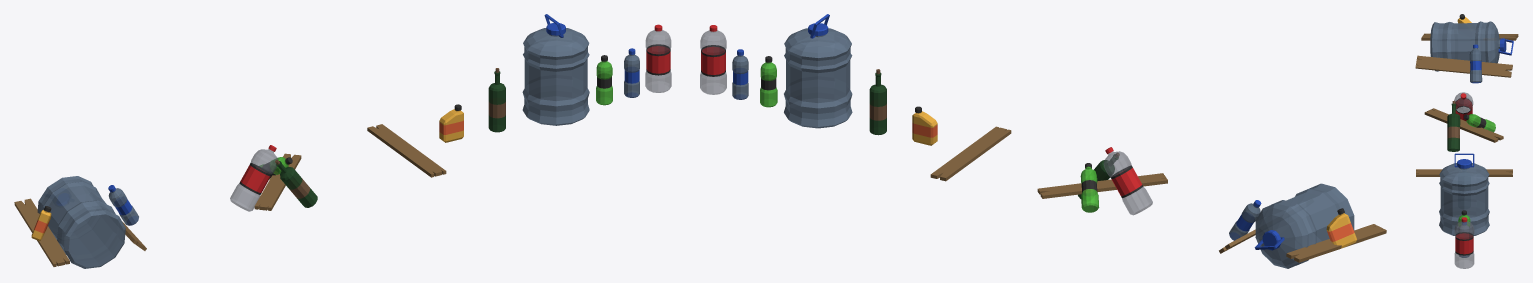
The model's file is FloatingTrashAssets.fbx.
3 renders of one model, left to right at view 1: azimuth 30°, elevation 25°; view 2: azimuth 150°, elevation 25°; view 3: azimuth 270°, elevation 25°, orthographic. The views are drawn at different scales.
Parts seen in each view (by area): view 1: FloatingTrashpile2, 5LBottle, FloatingTrashpile, 2Lbottle, Plank, WineBottle, OilBottle, 500mlBottleGreen, 500mlBottle; view 2: FloatingTrashpile2, 5LBottle, FloatingTrashpile, 2Lbottle, Plank, WineBottle, OilBottle, 500mlBottleGreen, 500mlBottle; view 3: FloatingTrashpile2, 5LBottle, FloatingTrashpile, 2Lbottle, Plank, 500mlBottleGreen, 500mlBottle.
Part boxes in pixels (bbox=[...]): FloatingTrashpile2: bbox=[14, 176, 146, 268]; 5LBottle: bbox=[522, 14, 589, 125]; FloatingTrashpile: bbox=[230, 145, 317, 211]; 2Lbottle: bbox=[645, 24, 671, 92]; Plank: bbox=[367, 124, 446, 177]; WineBottle: bbox=[488, 68, 505, 132]; OilBottle: bbox=[439, 104, 463, 142]; 500mlBottleGreen: bbox=[596, 55, 612, 105]; 500mlBottle: bbox=[624, 48, 639, 97]; FloatingTrashpile2: bbox=[1219, 183, 1386, 268]; 5LBottle: bbox=[784, 14, 852, 128]; FloatingTrashpile: bbox=[1037, 147, 1167, 215]; 2Lbottle: bbox=[700, 25, 726, 94]; Plank: bbox=[930, 126, 1011, 181]; WineBottle: bbox=[869, 69, 886, 135]; OilBottle: bbox=[912, 106, 937, 145]; 500mlBottleGreen: bbox=[760, 56, 777, 107]; 500mlBottle: bbox=[732, 49, 748, 99]; FloatingTrashpile2: bbox=[1415, 14, 1518, 83]; 5LBottle: bbox=[1439, 153, 1489, 235]; FloatingTrashpile: bbox=[1424, 92, 1503, 151]; 2Lbottle: bbox=[1454, 217, 1474, 268]; Plank: bbox=[1416, 169, 1512, 176]; 500mlBottleGreen: bbox=[1458, 210, 1470, 227]; 500mlBottle: bbox=[1458, 222, 1469, 257].
Size of the model in its own units: 2743 by 496 by 503.
